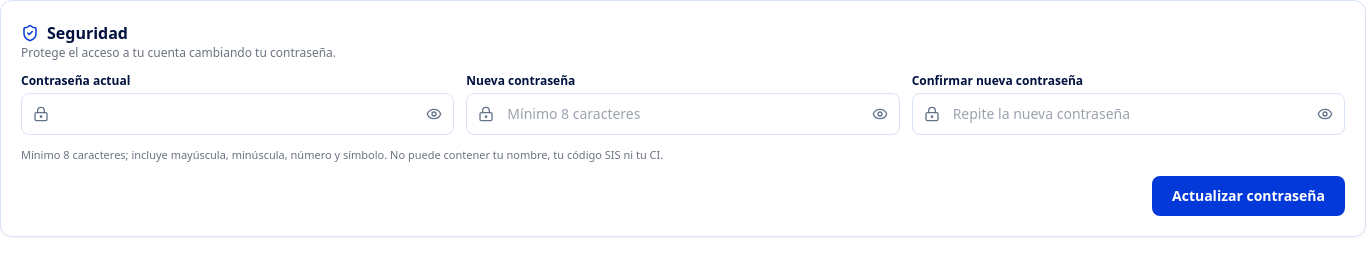
Test case: Cambiar contraseña: el mismo formulario para el estudiante y el personal › la regla extra del rol (estudiante) se aplica y se explica
Expected: the text "No puede contener tu nombre, tu código SIS ni tu CI." is shown, [387,147,663,162]
Type "Actual123!" into the password field labelled "Contraseña actual" at (238, 114), box [21,93,454,135]
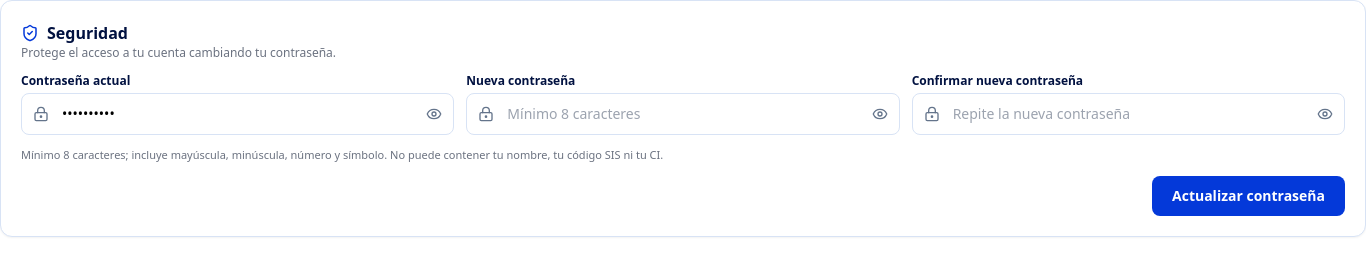
Type "AnaClave123!" into the password field labelled "Nueva contraseña" at (683, 114), box [466,93,900,135]
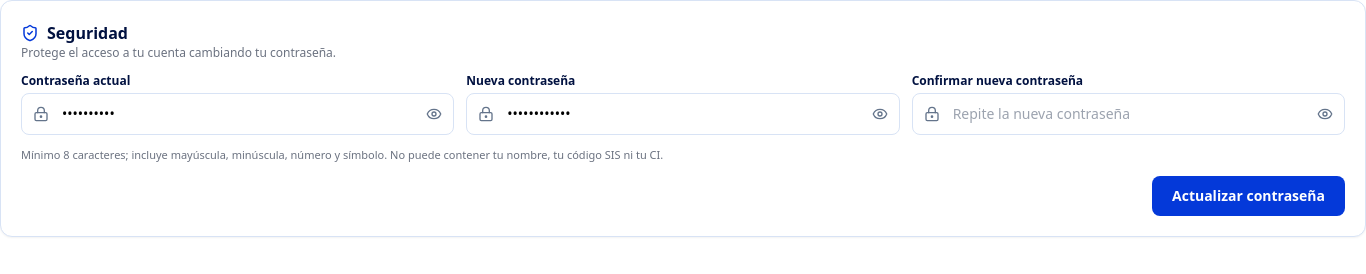
Type "AnaClave123!" into the password field labelled "Confirmar nueva contraseña" at (1128, 114), box [912,93,1345,135]
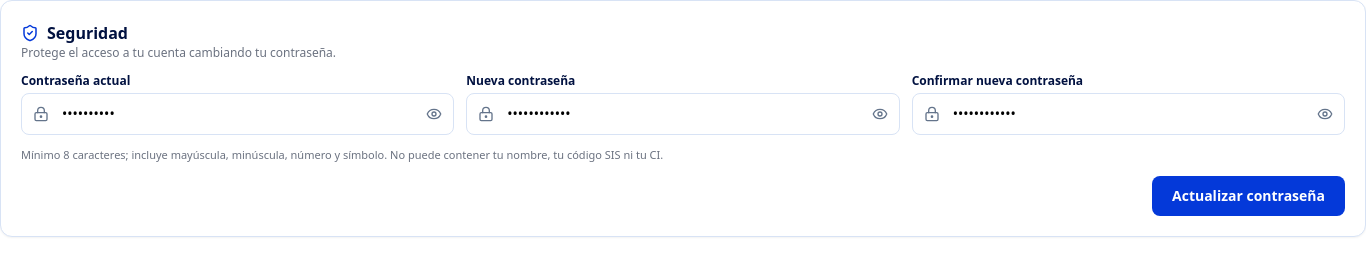
Click the button "Actualizar contraseña" at (1248, 196), box [1152,176,1345,216]
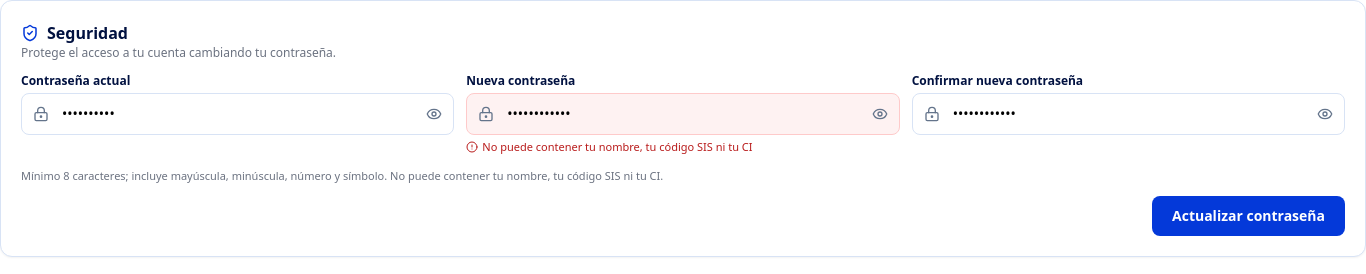
Expected: the text "No puede contener tu nombre, tu código SIS ni tu CI" is shown, [466,139,752,154]
